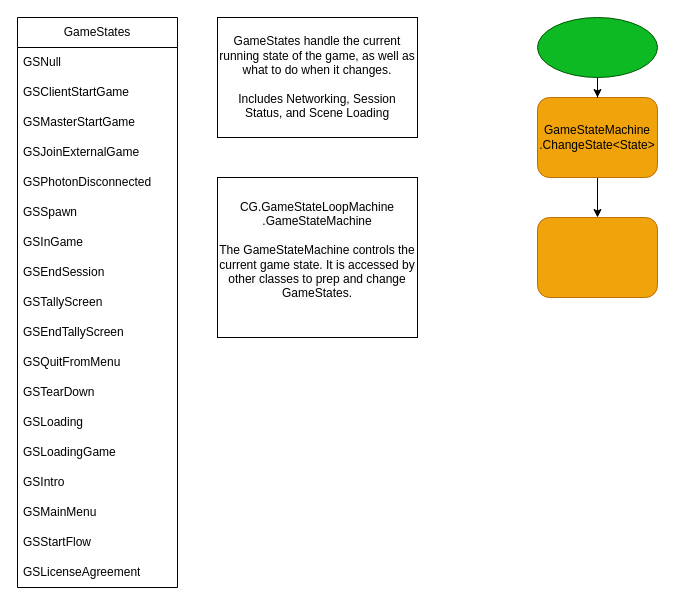
This 675x605 diagram has some shape labels left out. Each missing label, with the centre of its shape:
External Method Calls State Change: [597,47]
Old state OnExit New state OnEnter: [597,257]
